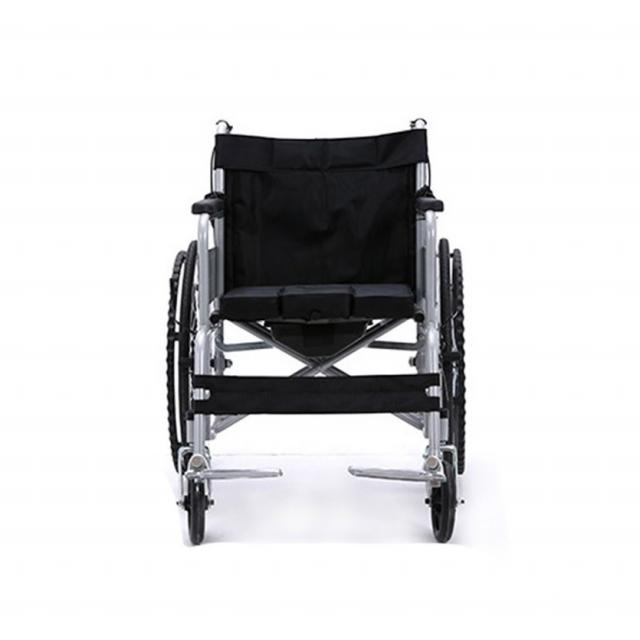wheelchair: (123, 80, 524, 580)
